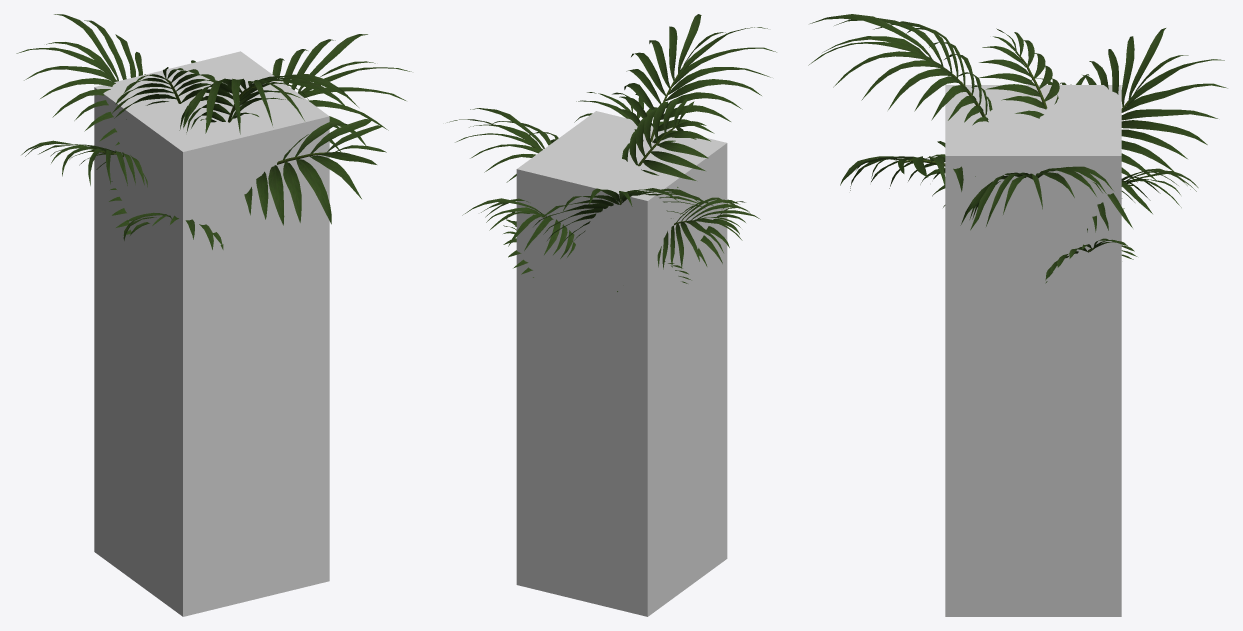
Rendered from UpLu_Potted_Fern.gltf.
3 views of the same model, side by side, from view 1: azimuth 30°, elevation 25°; view 2: azimuth 150°, elevation 25°; view 3: azimuth 270°, elevation 25° (orthographic). The views are drawn at different scales.
Parts seen in each view (by area): view 1: UpLu_Potted_Fern_bcol, UpLu_Potted_Fern.001; view 2: UpLu_Potted_Fern_bcol, UpLu_Potted_Fern.001; view 3: UpLu_Potted_Fern_bcol, UpLu_Potted_Fern.001.
Boxes of the visible parts, box(x1,y1,x2,y2) form: UpLu_Potted_Fern_bcol: box(94, 51, 329, 616); UpLu_Potted_Fern.001: box(16, 14, 411, 249); UpLu_Potted_Fern_bcol: box(516, 111, 727, 616); UpLu_Potted_Fern.001: box(447, 14, 776, 291); UpLu_Potted_Fern_bcol: box(945, 85, 1121, 616); UpLu_Potted_Fern.001: box(808, 14, 1227, 283).
Bounding box in the file's own units: 1.83 × 2.75 × 1.92.
Materials: 1 (1 with a texture image).
